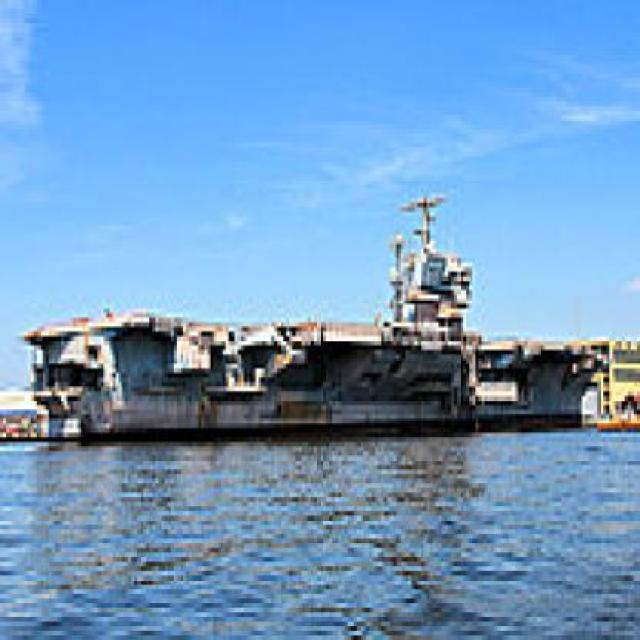warship2: (43, 148, 611, 466)
